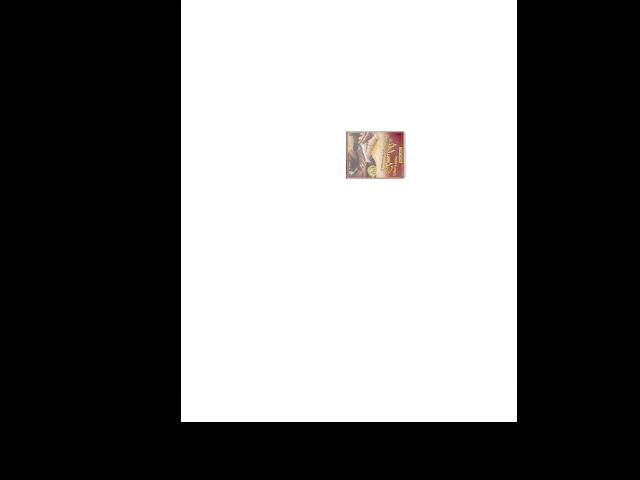chocolate: (345, 131, 405, 178)
